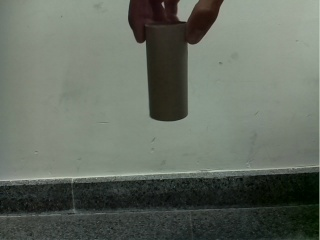rollo papel: (144, 21, 191, 122)
